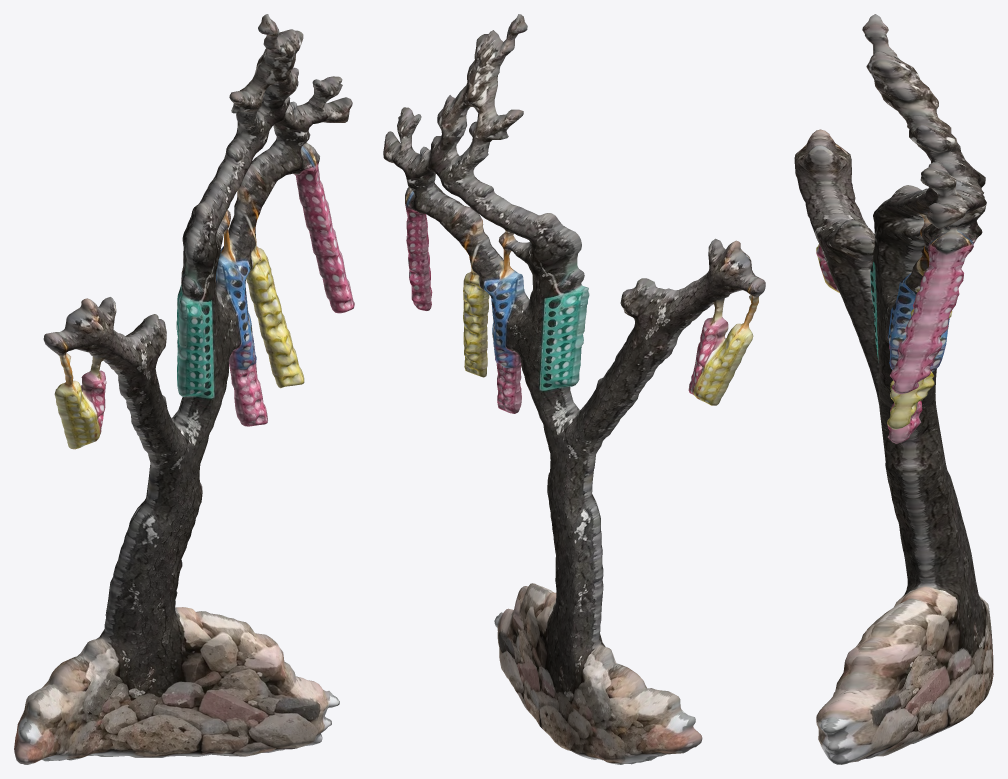
Rendered from hy3d-mov-017.glb.
3 renders of one model, left to right at view 1: azimuth 30°, elevation 25°; view 2: azimuth 150°, elevation 25°; view 3: azimuth 270°, elevation 25°, orthographic. The views are drawn at different scales.
Visible parts, largest first — view 1: world; view 2: world; view 3: world.
Part boxes in pixels (x1=…): world: x1=14, y1=14, x2=354, y2=764; world: x1=383, y1=14, x2=765, y2=764; world: x1=794, y1=14, x2=993, y2=764.
Bounding box in the file's own units: 1.14 × 2.27 × 0.5404.
1 material, 1 textured.
